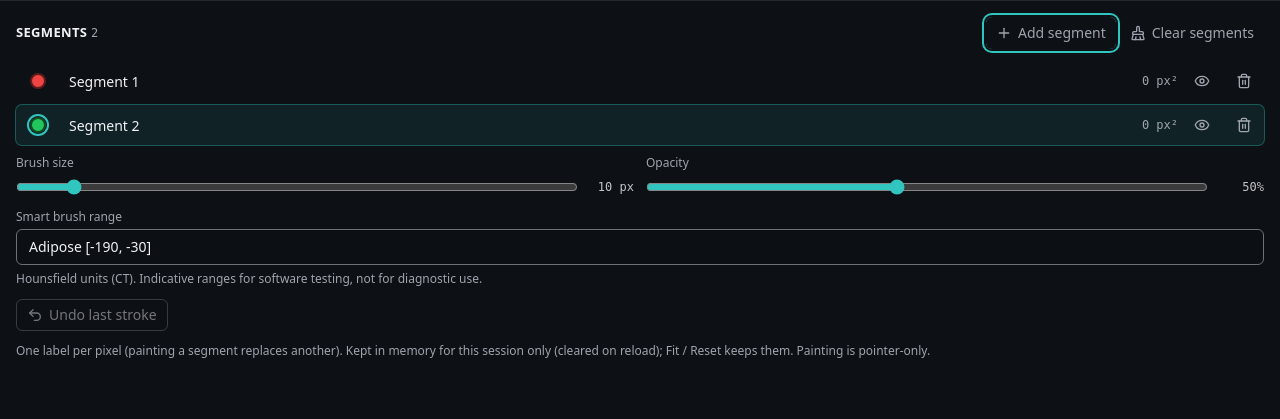
SegmentsSection › delete keeps focus in the list (next, else previous, else heading) and announces each time
This screenshot has width=1280, height=419.
Earlier steps of the test are not shown.
Step 1. Click the button "Add segment" → [1051, 33], box [986,17,1116,49]
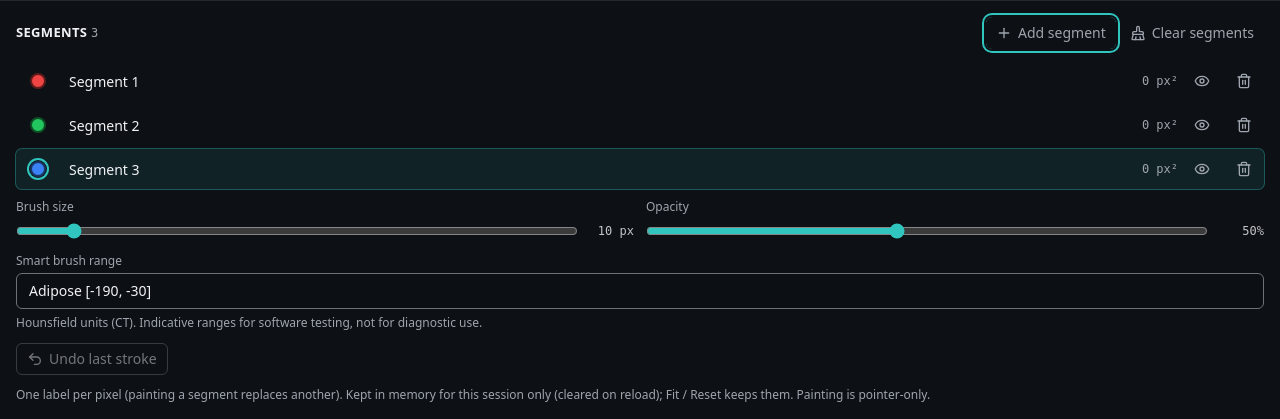
Step 2. Click the button named "Delete Segment 2" → [1244, 125], box [1226,107,1262,143]
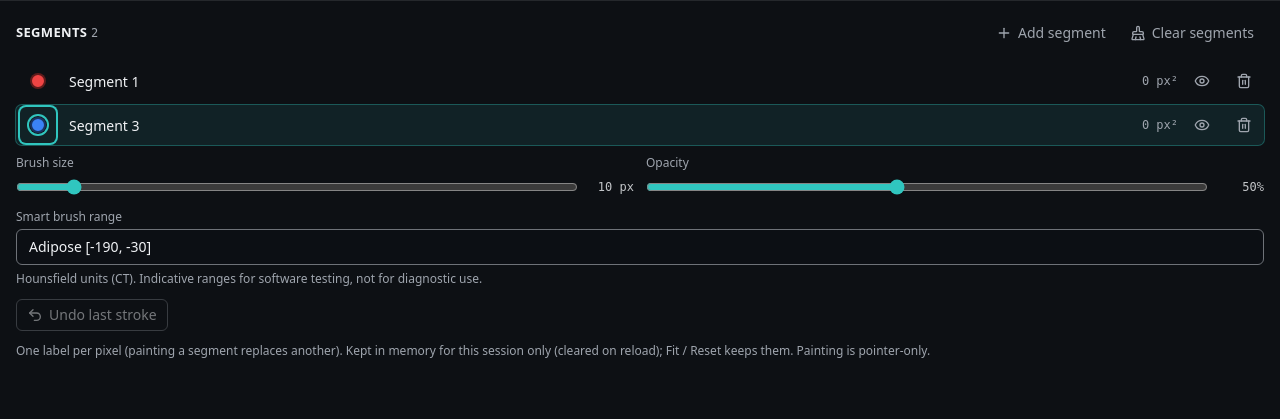
Step 3. Click the button named "Delete Segment 3" → [1244, 125], box [1226,107,1262,143]
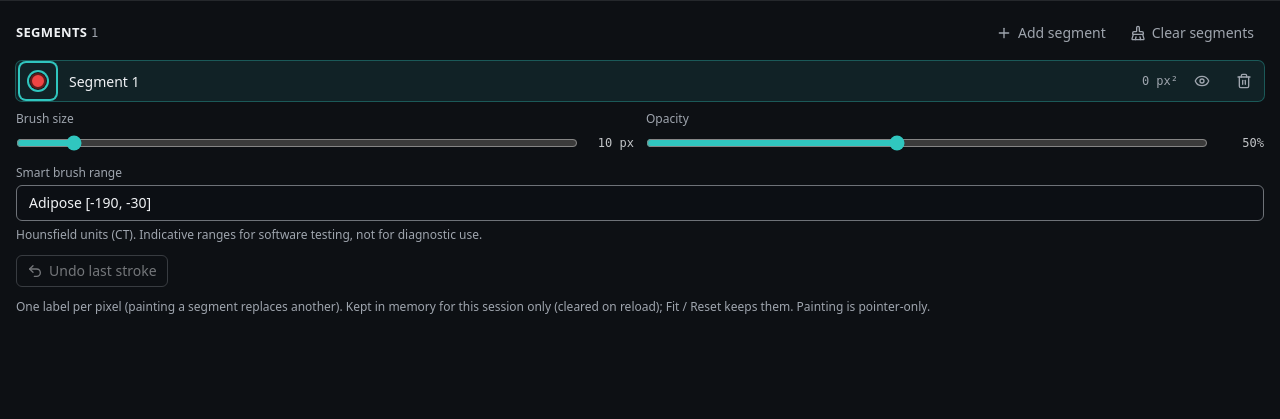
Step 4. Click the button "Add segment" → [1051, 33], box [986,17,1116,49]
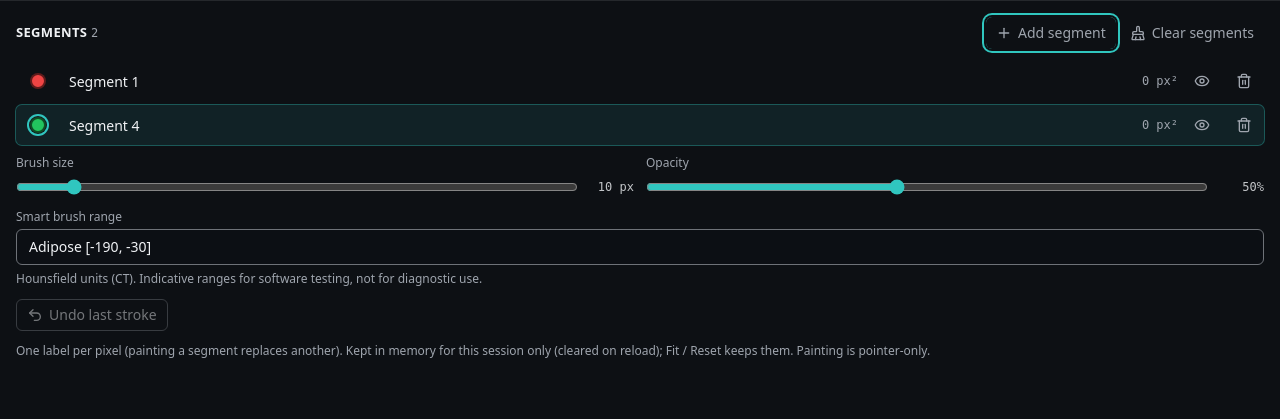
Step 5. Click the button named "Delete Segment 4" → [1244, 125], box [1226,107,1262,143]
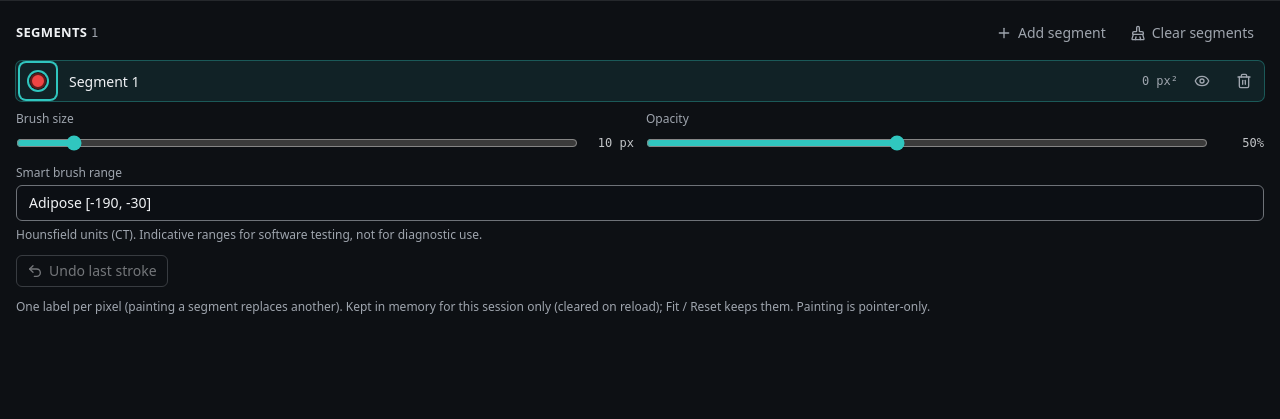
Step 6. Click the button named "Delete Segment 1" → [1244, 81], box [1226,63,1262,99]
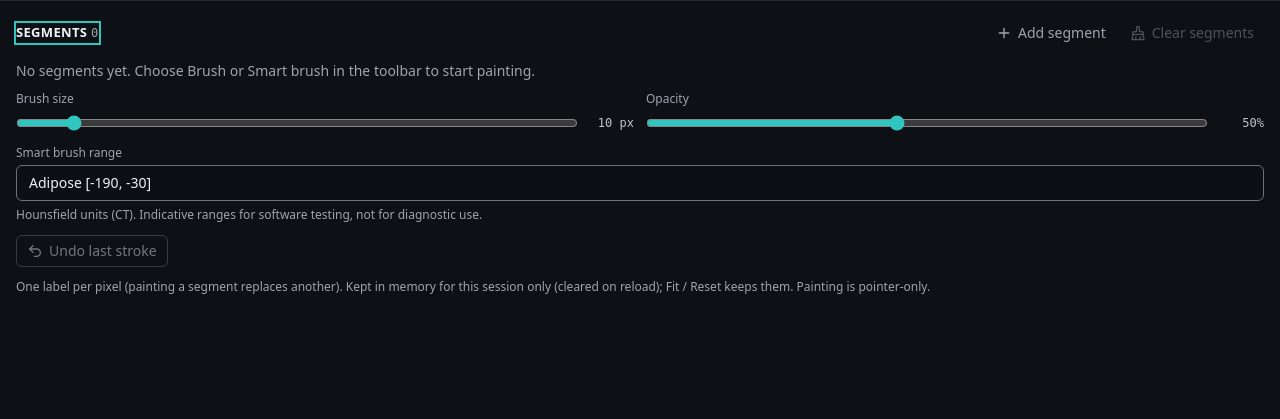
Expected: the text "No segments yet. Choose Brush or Smart brush in the toolbar to start painting." is shown, [16,61,535,80]
